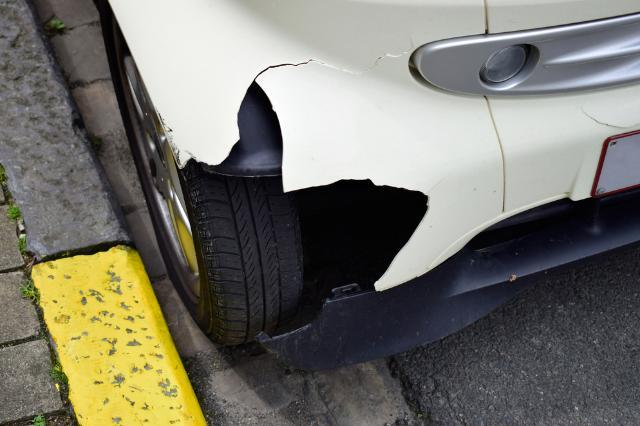Bumper: (175, 39, 640, 330)
